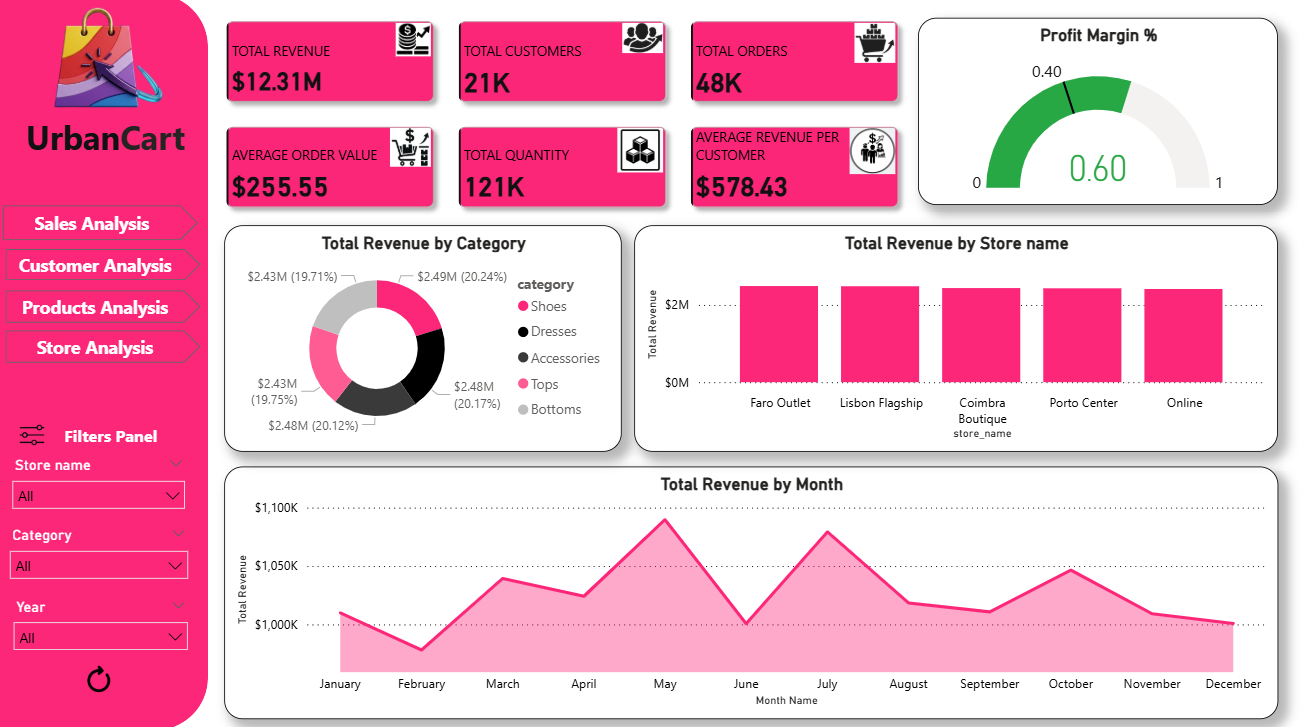

This screenshot's page, from the dashboard's own definition file:
{"tool":"powerbi","page":{"name":"Sales Overview","canvas":[1280,720],"ordinal":0},"visuals":[{"type":"shape","box":[0,0,205.4,720.2],"z":0},{"type":"image","box":[13.5,0,172.4,126],"z":0,"group":"g3"},{"type":"cardVisual","fields":{"Data":["sales.Total Revenue","sales.Total Customer","sales.Total Orders","sales.Average Order Value","sales.Total Quantity","sales.Average revenue per customer"]},"box":[206.7,9.8,693.3,216.4],"z":1000},{"type":"textbox","box":[14.6,114,181,57.5],"z":1000,"group":"g3"},{"type":"slicer","fields":{"Values":["sales.date.Variation.Date Hierarchy.Year"]},"box":[4.9,585.7,190.8,66],"z":2000},{"type":"slicer","fields":{"Values":["product.category"]},"box":[1.2,516,194.4,69.7],"z":3000},{"type":"slicer","fields":{"Values":["store.store_id"]},"box":[3.7,447.6,189.5,63.6],"z":4000},{"type":"stackedAreaChart","title":"Total Revenue by Month","fields":{"Category":["sales.Month Name"],"Y":["sales.Total Revenue"]},"box":[221.3,462.2,1030.8,247],"z":5000},{"type":"donutChart","title":"Total Revenue by Category","fields":{"Y":["sales.Total Revenue"],"Category":["product.category"]},"box":[221.3,226.2,388.9,221.3],"z":6000},{"type":"clusteredColumnChart","title":"Total Revenue by Store name","fields":{"Category":["store.store_name"],"Y":["sales.Total Revenue"]},"box":[622.4,226.2,629.8,221.3],"z":7000},{"type":"shape","box":[4.9,206.7,190.8,34.2],"z":8000},{"type":"shape","box":[7.3,249.5,190.8,30.6],"z":9000},{"type":"shape","box":[7.3,289.8,190.8,31.8],"z":10000},{"type":"shape","box":[7.3,328.9,190.8,31.8],"z":11000},{"type":"gauge","title":"Profit Margin %","fields":{"Y":["sales.Profit Margin"],"TargetValue":["sales.Target Margin"],"MinValue":["sales.Min value"],"MaxValue":["sales.Max value"]},"box":[900,23.2,352.2,183.4],"z":12000},{"type":"image","box":[79.5,651.8,37.9,36.7],"z":13000},{"type":"actionButton","box":[70.9,649.3,57.5,40.4],"z":14000},{"type":"group","id":"g1","title":"Group 1","box":[7.3,415.8,188.3,31.8],"z":15000},{"type":"image","box":[7.3,415.8,52.6,31.8],"z":15000,"group":"g1"},{"type":"actionButton","box":[22,287.4,134.5,36.7],"z":16000},{"type":"textbox","box":[59.9,415.8,135.7,31.8],"z":16000,"group":"g1"},{"type":"actionButton","box":[22,328.9,134.5,36.7],"z":17000},{"type":"actionButton","box":[22,205.4,134.5,36.7],"z":18000},{"type":"actionButton","box":[22,247,134.5,36.7],"z":19000},{"type":"group","id":"g2","title":"Group 2","box":[13.5,0,182.2,171.2],"z":20000},{"type":"group","id":"g3","title":"Group 3","box":[13.5,0,182.1,171.5],"z":20004,"group":"g2"}]}

Visuals, with their boxes in screenshot pixels (x1, y1, x2, y2), scaled from the page's 1280x720 canvas onto the 1303x727 screenshot:
shape: x1=0 y1=0 x2=209 y2=726
image: x1=14 y1=0 x2=189 y2=127
cardVisual - sales.Total Revenue x sales.Total Customer: x1=210 y1=10 x2=916 y2=228
textbox: x1=15 y1=115 x2=199 y2=173
slicer - sales.date.Variation.Date Hierarchy.Year: x1=5 y1=591 x2=199 y2=658
slicer - product.category: x1=1 y1=521 x2=199 y2=591
slicer - store.store_id: x1=4 y1=452 x2=197 y2=516
"Total Revenue by Month" stackedAreaChart: x1=225 y1=467 x2=1275 y2=716
"Total Revenue by Category" donutChart: x1=225 y1=228 x2=621 y2=452
"Total Revenue by Store name" clusteredColumnChart: x1=634 y1=228 x2=1275 y2=452
shape: x1=5 y1=209 x2=199 y2=243
shape: x1=7 y1=252 x2=202 y2=283
shape: x1=7 y1=293 x2=202 y2=325
shape: x1=7 y1=332 x2=202 y2=364
"Profit Margin %" gauge: x1=916 y1=23 x2=1275 y2=209
image: x1=81 y1=658 x2=120 y2=695
actionButton: x1=72 y1=656 x2=131 y2=696
"Group 1" group: x1=7 y1=420 x2=199 y2=452
image: x1=7 y1=420 x2=61 y2=452
actionButton: x1=22 y1=290 x2=159 y2=327
textbox: x1=61 y1=420 x2=199 y2=452
actionButton: x1=22 y1=332 x2=159 y2=369
actionButton: x1=22 y1=207 x2=159 y2=244
actionButton: x1=22 y1=249 x2=159 y2=286
"Group 2" group: x1=14 y1=0 x2=199 y2=173
"Group 3" group: x1=14 y1=0 x2=199 y2=173
